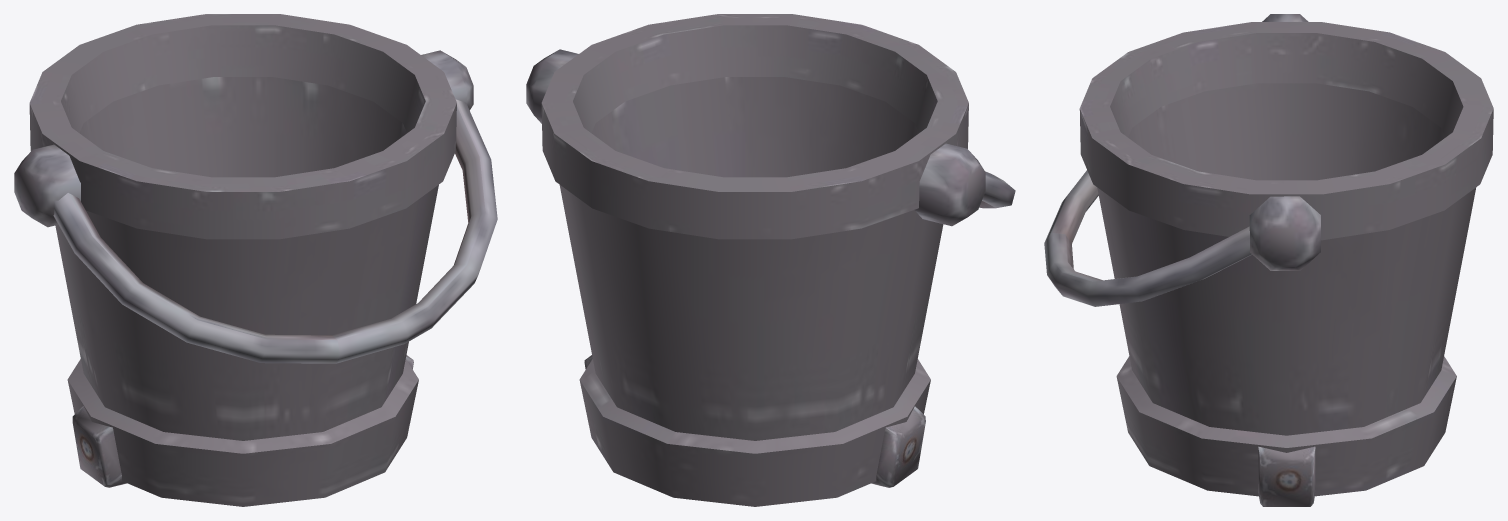
Rendered from Bucket_Metal.gltf.
3 views of the same model, side by side, from view 1: azimuth 30°, elevation 25°; view 2: azimuth 150°, elevation 25°; view 3: azimuth 270°, elevation 25° (orthographic). The views are drawn at different scales.
Visible parts, largest first — view 1: Bucket_Metal; view 2: Bucket_Metal; view 3: Bucket_Metal.
Part boxes in pixels (left/top/right/bottom): Bucket_Metal: left=14, top=14, right=497, bottom=506; Bucket_Metal: left=526, top=14, right=1015, bottom=506; Bucket_Metal: left=1044, top=14, right=1493, bottom=506.
Bounding box in the file's own units: 0.4854 × 0.365 × 0.449.
1 material, 1 textured.
